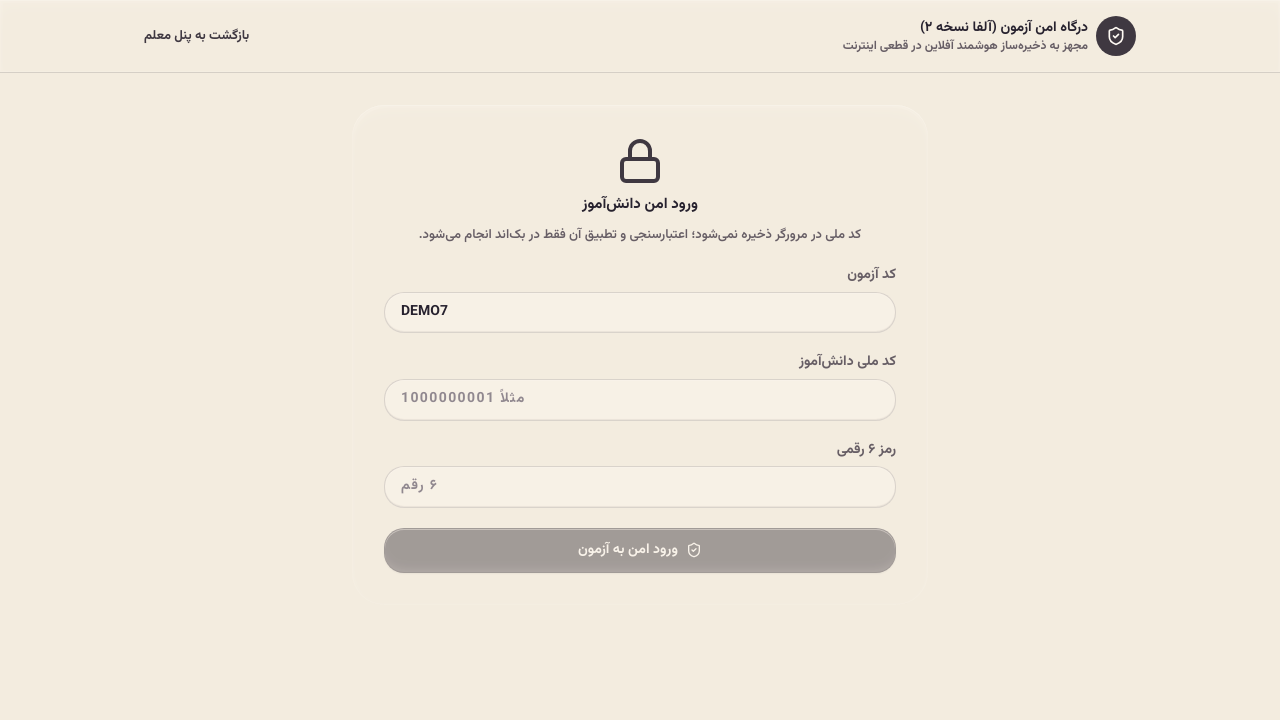
it: SecureExamPortal PIN login (T7) › first login greets the student and shows the set-PIN screen
Type "1000000001" into the field with placeholder "مثلاً 1000000001".
click(640, 400); type("1000000001")  # box [384,379,896,420]
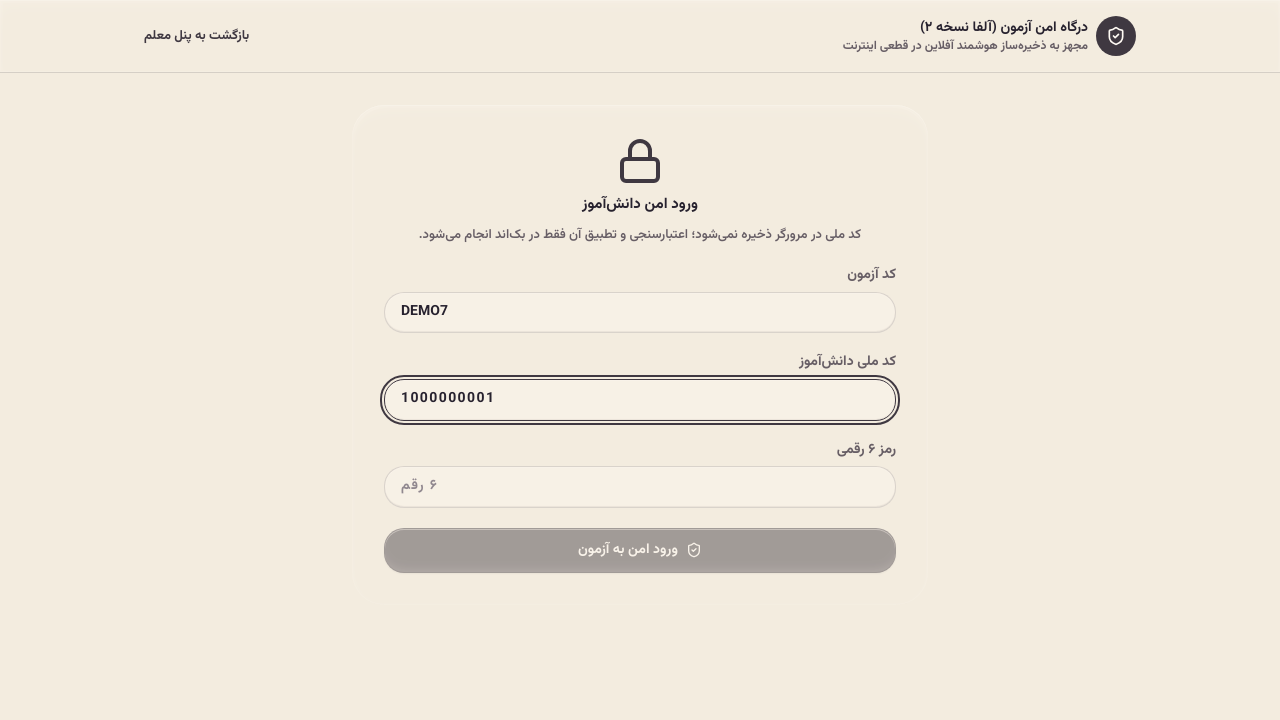
Type "123456" into the field with placeholder "۶ رقم".
click(640, 487); type("123456")  # box [384,466,896,508]
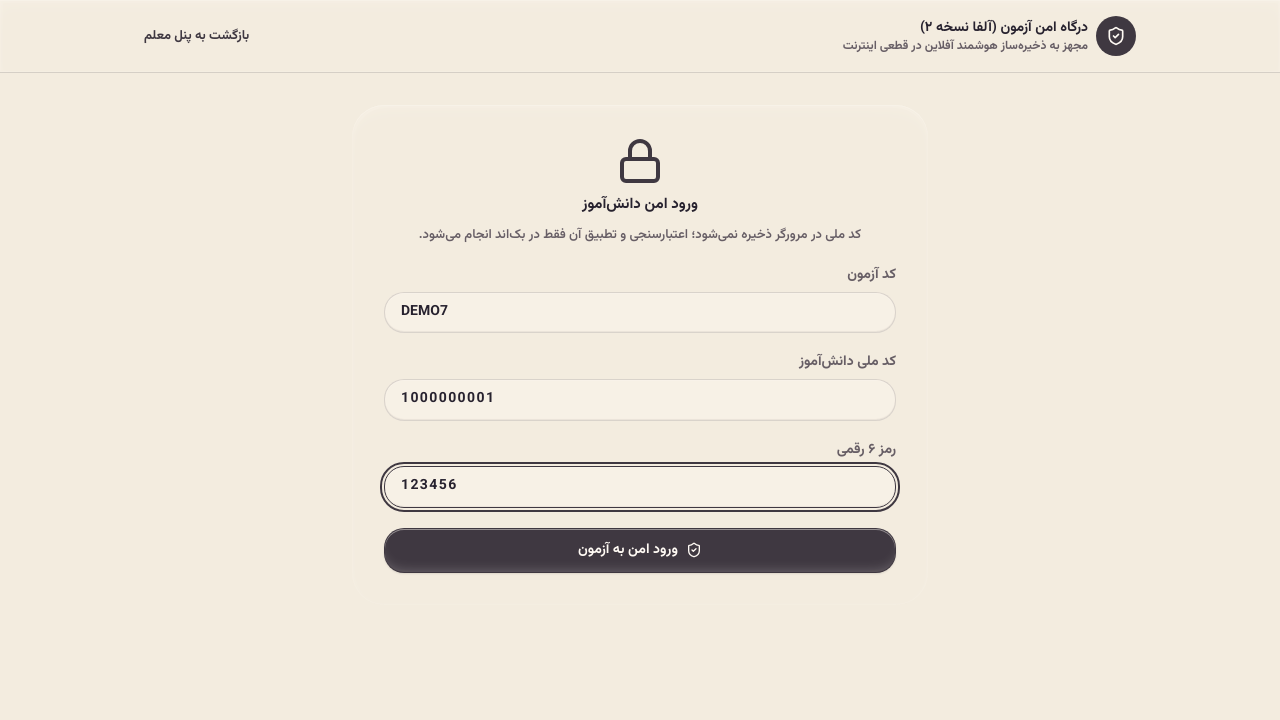
Click the button "ورود امن به آزمون".
click(640, 550)  # box [384,528,896,573]
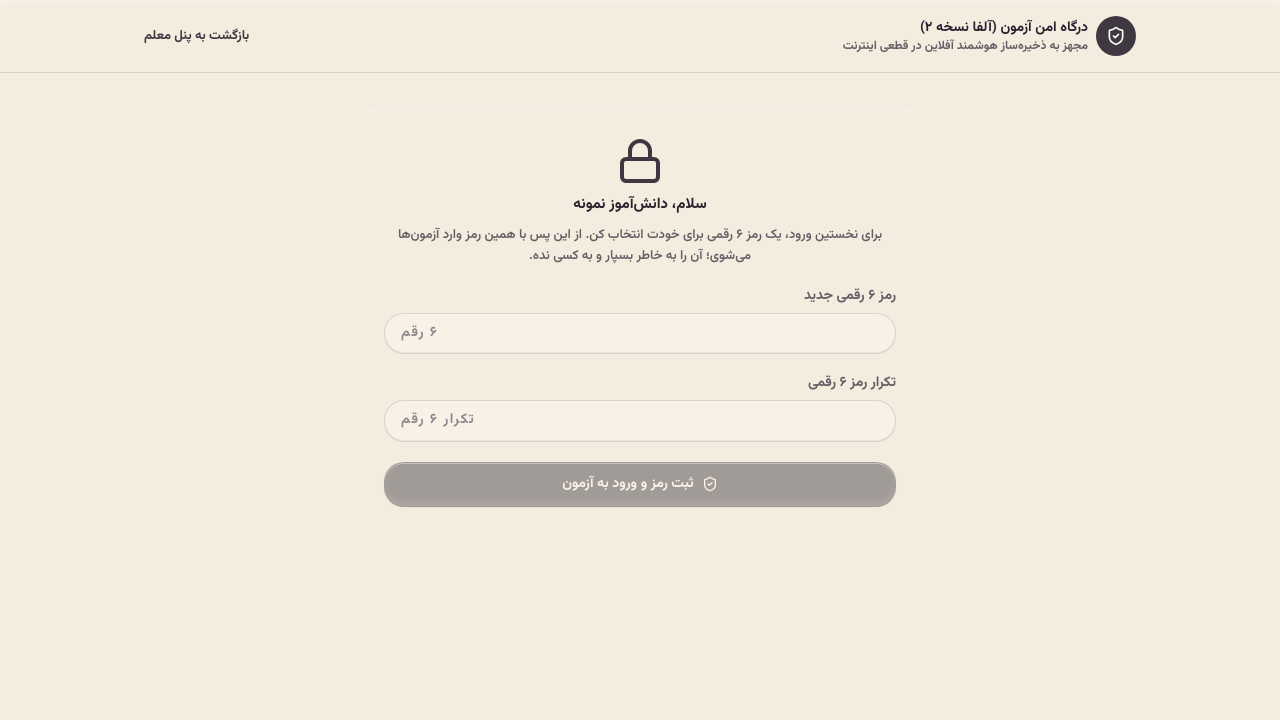
Check: the heading "سلام، دانش‌آموز نمونه" is shown, box [573,193,707,216]
Check: the button "ثبت رمز و ورود به آزمون" is shown, box [384,462,896,507]
